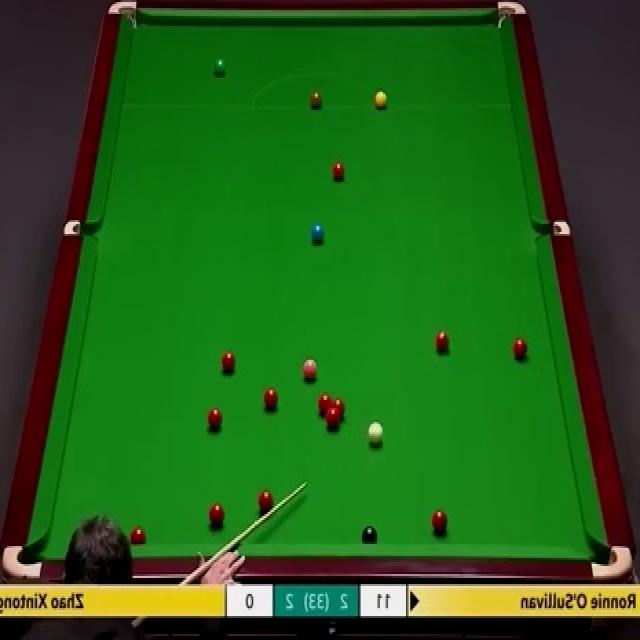black-ball: (361, 526, 378, 545)
blue-ball: (311, 222, 325, 245)
brown-ball: (310, 88, 324, 111)
green-ball: (213, 58, 228, 78)
pink-ball: (302, 354, 317, 382)
red-ball: (220, 349, 237, 378), (512, 336, 529, 363), (209, 503, 226, 529), (431, 509, 448, 534), (258, 489, 274, 515), (435, 329, 450, 355), (208, 405, 223, 430), (264, 387, 279, 412), (331, 159, 346, 182), (318, 394, 332, 418), (130, 526, 146, 546), (326, 410, 339, 430), (332, 398, 345, 418)
white-ball: (366, 418, 385, 450)
yellow-ball: (375, 89, 388, 109)
